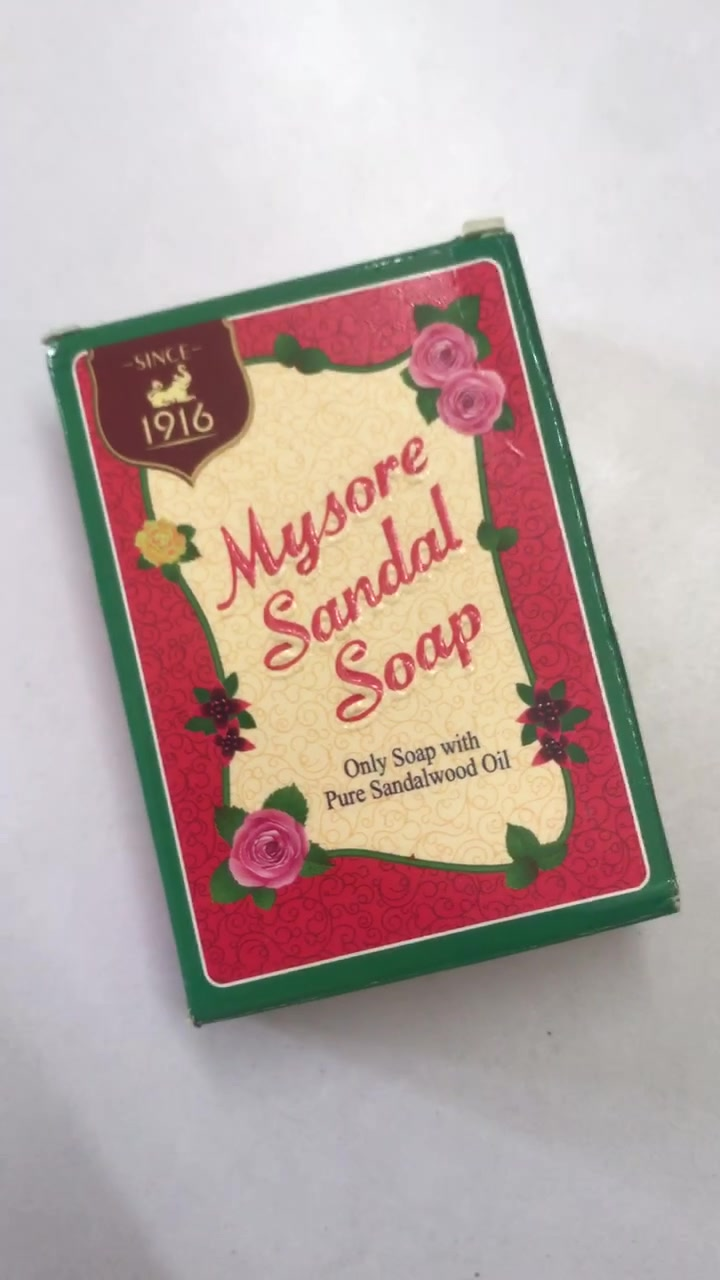mysore sandal soap: (58, 249, 664, 1013)
